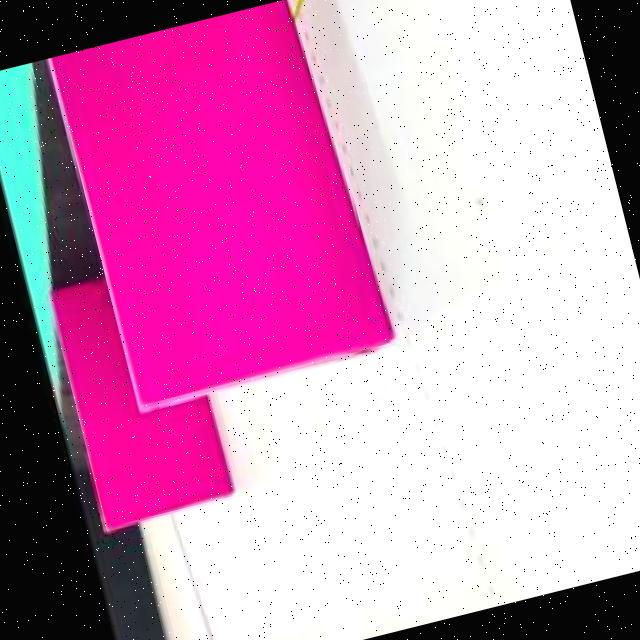xparking: (49, 0, 394, 405), (77, 394, 232, 527)
